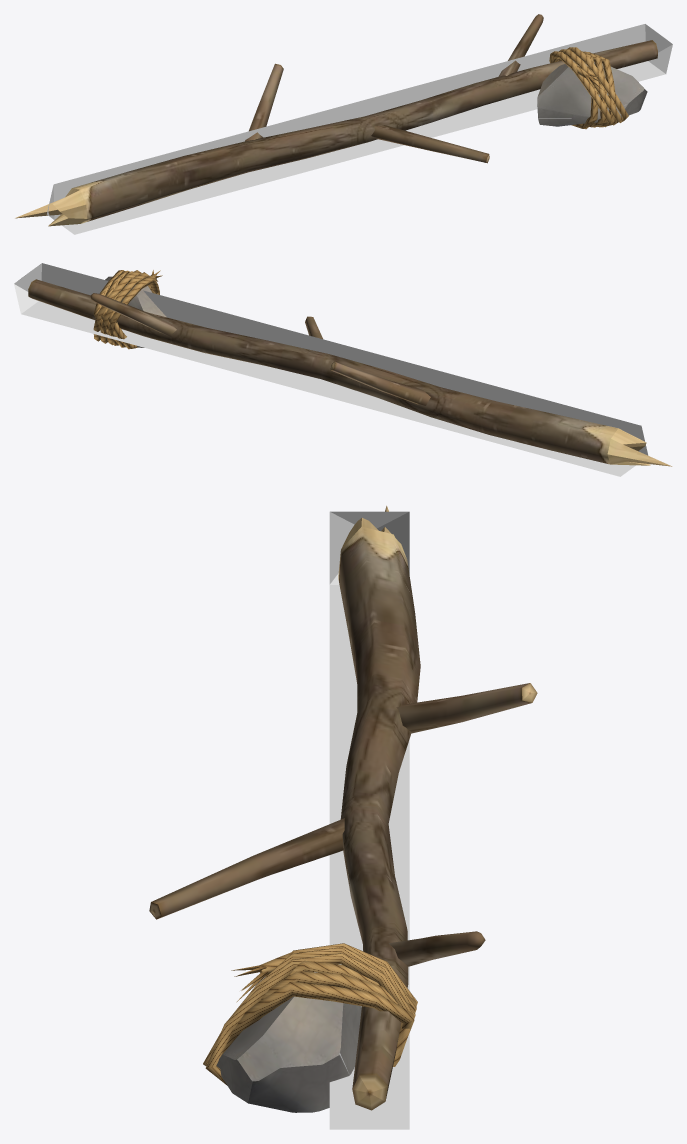
Rendered from IO_Bound_A_StickStone.glb.
3 views of the same model, one above another, from view 1: azimuth 30°, elevation 25°; view 2: azimuth 150°, elevation 25°; view 3: azimuth 270°, elevation 25° (orthographic). The views are drawn at different scales.
Parts seen in each view (by area): view 1: IO_Bound_A_StickStone_LOD0, IO_Bound_A_StickStone_COL; view 2: IO_Bound_A_StickStone_LOD0, IO_Bound_A_StickStone_COL; view 3: IO_Bound_A_StickStone_LOD0, IO_Bound_A_StickStone_COL.
Boxes of the visible parts, box(x1,y1,x2,y2) form: IO_Bound_A_StickStone_LOD0: box(15, 14, 657, 226); IO_Bound_A_StickStone_COL: box(47, 24, 672, 234); IO_Bound_A_StickStone_LOD0: box(28, 270, 672, 466); IO_Bound_A_StickStone_COL: box(14, 263, 648, 476); IO_Bound_A_StickStone_LOD0: box(149, 505, 537, 1112); IO_Bound_A_StickStone_COL: box(329, 511, 409, 1129).
Size of what is drawn, in the model's own units: 0.9096 by 0.1009 by 0.2336.
Materials: 3 (3 with a texture image).
